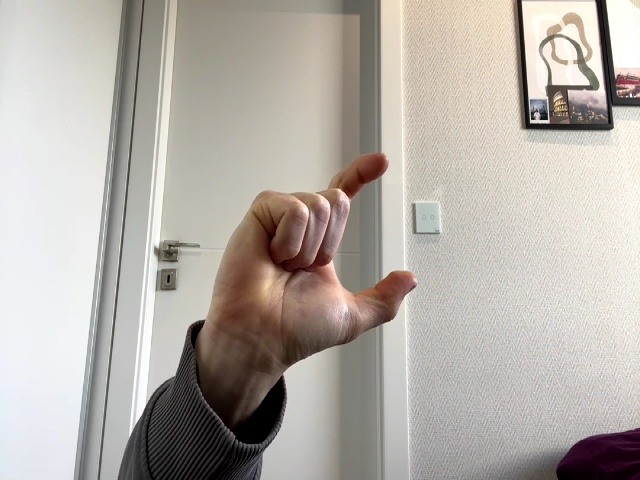C: (211, 154, 418, 371)
